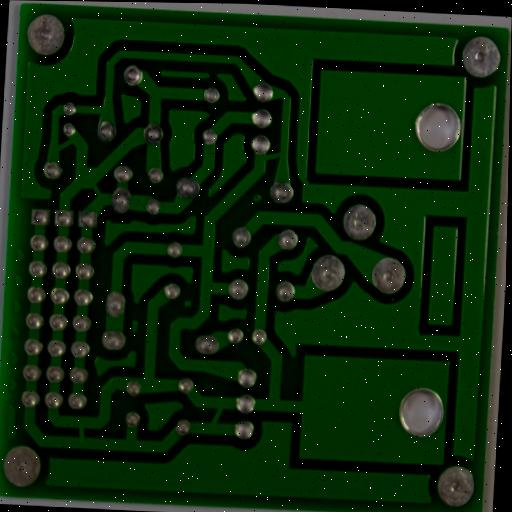short_circuit: (204, 397, 233, 437), (82, 172, 114, 207), (68, 413, 97, 451), (51, 127, 84, 158), (257, 142, 289, 169)
